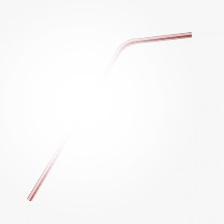drinking_straw: (24, 26, 194, 203)
